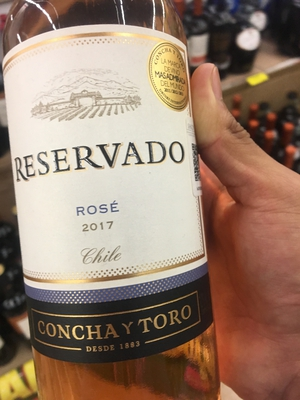reservado rose: (4, 16, 208, 400)
